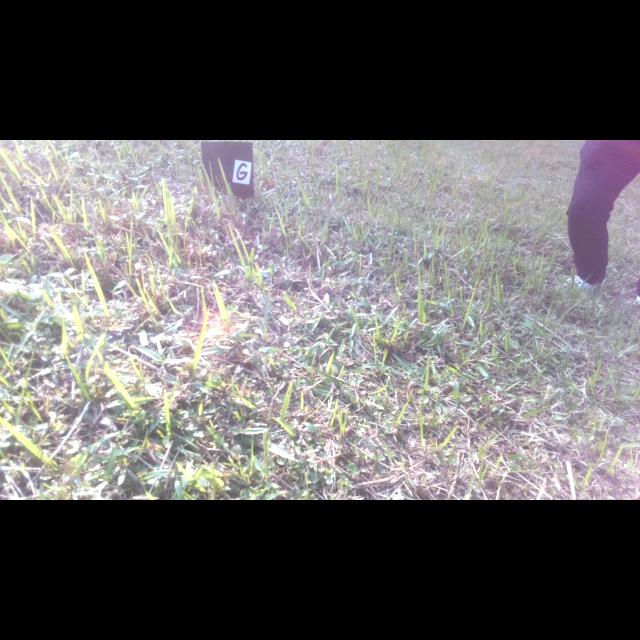G: (236, 163, 247, 180)
